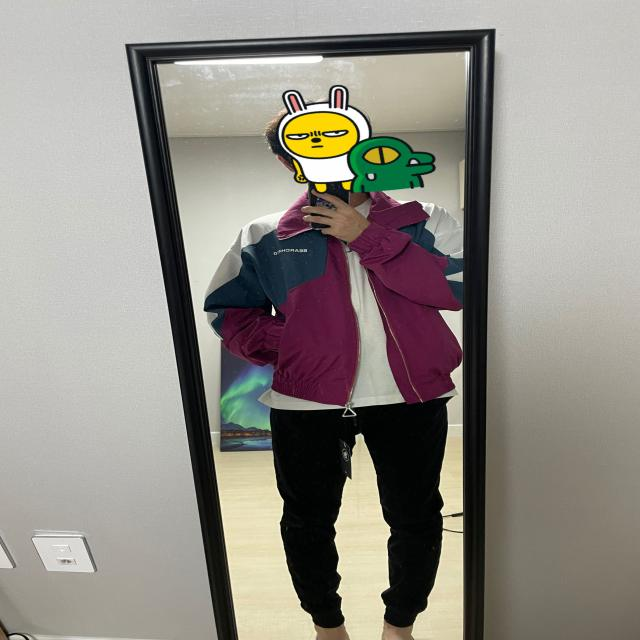denimpants: (273, 394, 456, 635)
jacket: (209, 193, 470, 407)
